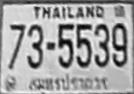3: (26, 23, 43, 68), (94, 24, 109, 66)
5: (57, 23, 73, 67), (76, 24, 91, 66)
7: (8, 23, 25, 67)
9: (112, 22, 126, 66)
SPK: (26, 73, 112, 93)
